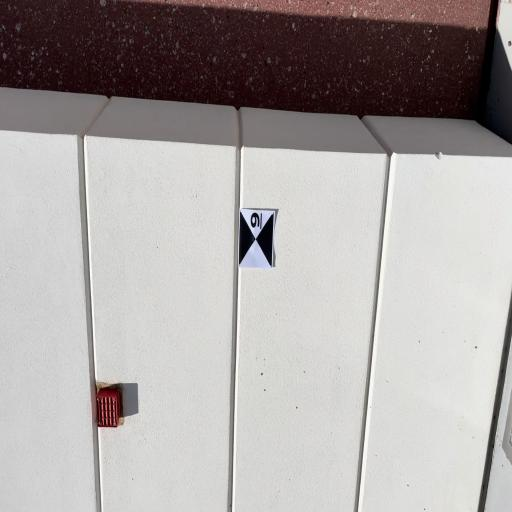target9: (238, 209, 275, 269)
